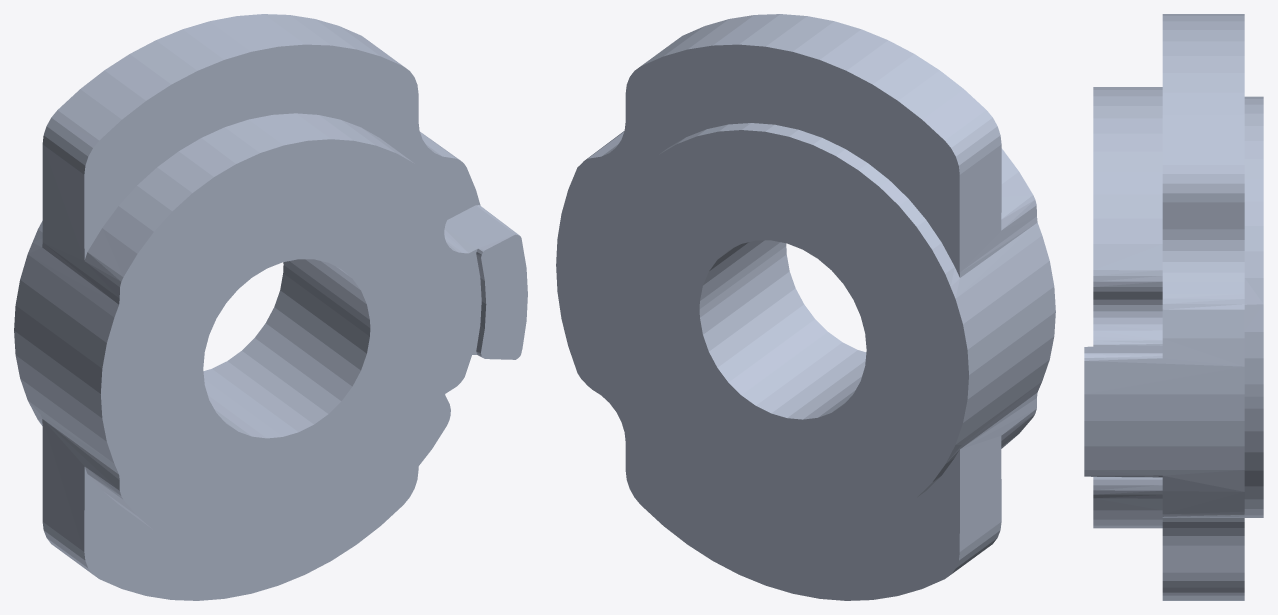
The picture shows the model from 3 angles, left to right: view 1: azimuth 30°, elevation 25°; view 2: azimuth 150°, elevation 25°; view 3: azimuth 270°, elevation 25°; orthographic projection.
Visible parts, largest first — view 1: link5_01; view 2: link5_01; view 3: link5_01.
Boxes of the visible parts, x1,y1,x2,y2 form: link5_01: (14,14,527,600); link5_01: (556,14,1055,600); link5_01: (1084,14,1263,600).
Size of the model in its own units: 0.0379 by 0.0465 by 0.0142.
